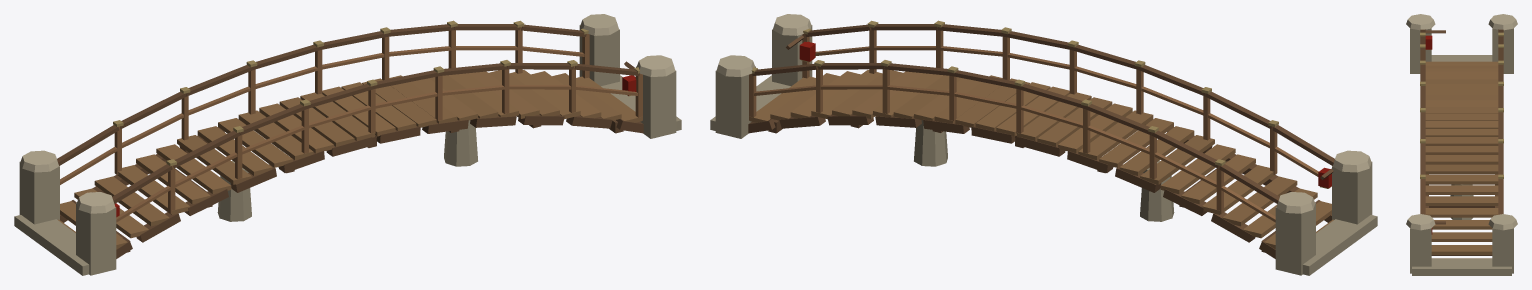
The model's file is bridge.glb.
3 views of the same model, side by side, from view 1: azimuth 30°, elevation 25°; view 2: azimuth 150°, elevation 25°; view 3: azimuth 270°, elevation 25° (orthographic). The views are drawn at different scales.
Parts seen in each view (by area): view 1: bridge_body; view 2: bridge_body; view 3: bridge_body.
Part boxes in pixels (box(x1,y1,x2,y2)): bridge_body: box(14, 14, 681, 275); bridge_body: box(710, 14, 1377, 275); bridge_body: box(1406, 14, 1517, 275).
Size of the model in its own units: 11.66 by 2.33 by 2.58.
